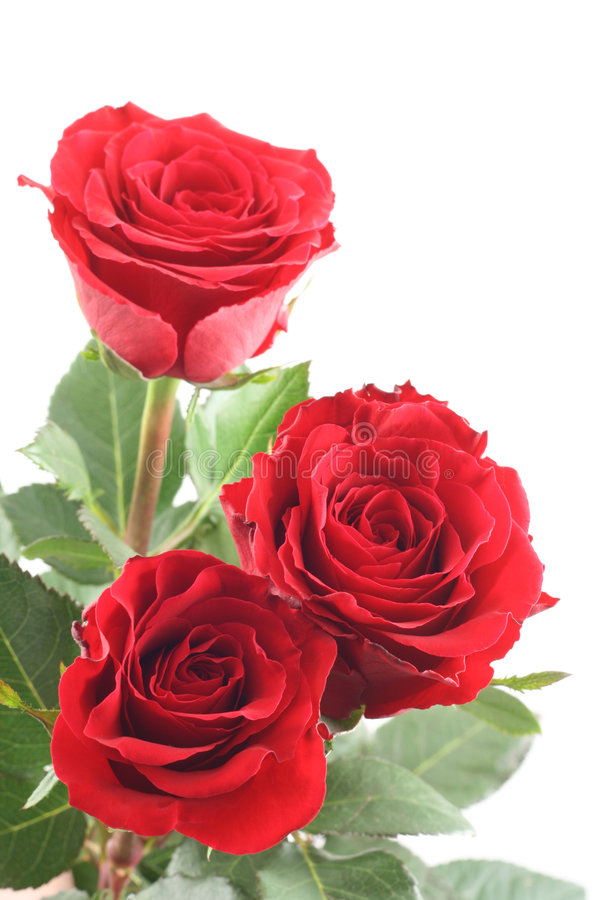RedRose: (241, 367, 551, 754), (29, 84, 346, 400), (63, 548, 339, 877)
